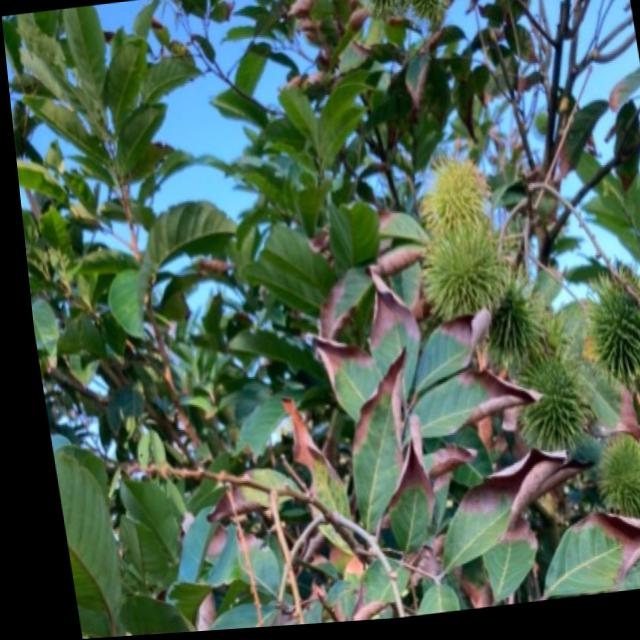Leaf Blight: (269, 189, 593, 627), (290, 0, 438, 114)
